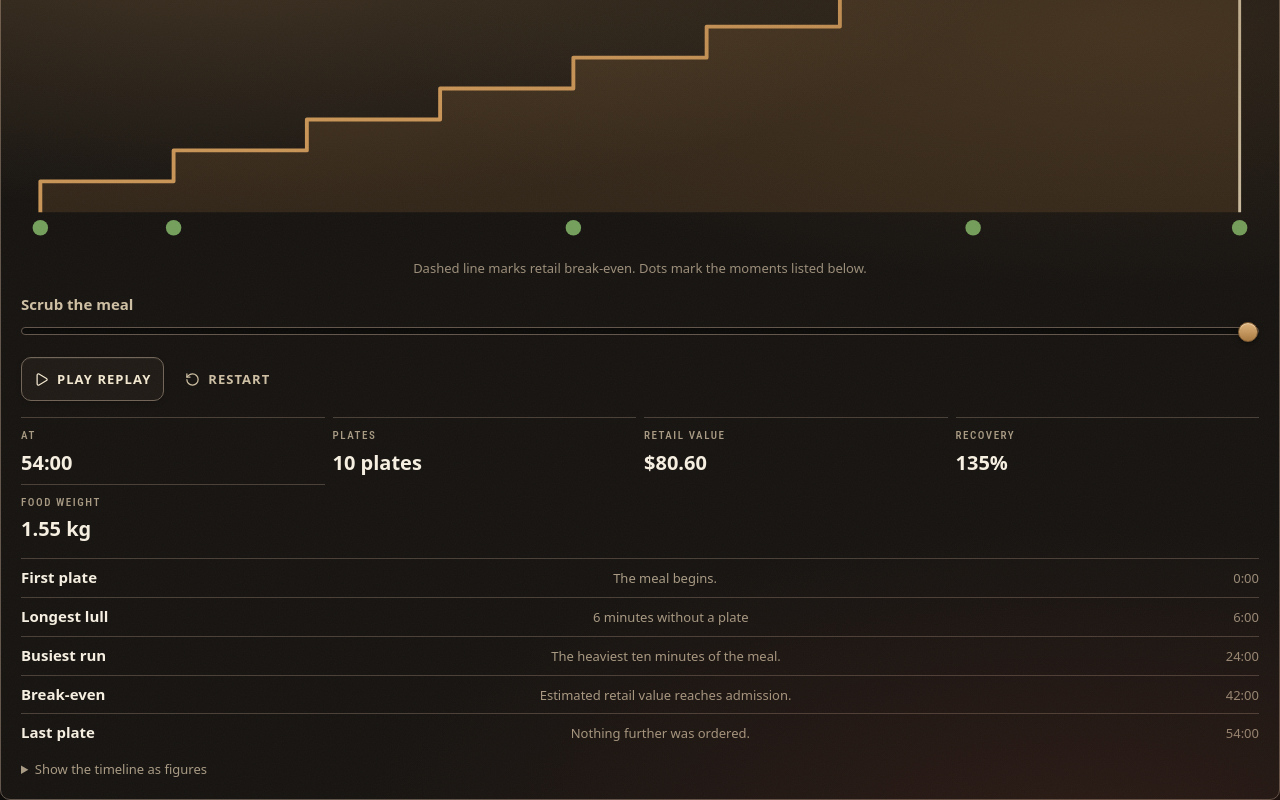
MealReplay › offers the same series as a table
This screenshot has width=1280, height=800.
(page scrolled)
Click the heading "Show the timeline as figures" at (121, 769), box [35,760,207,778]
(page scrolled)
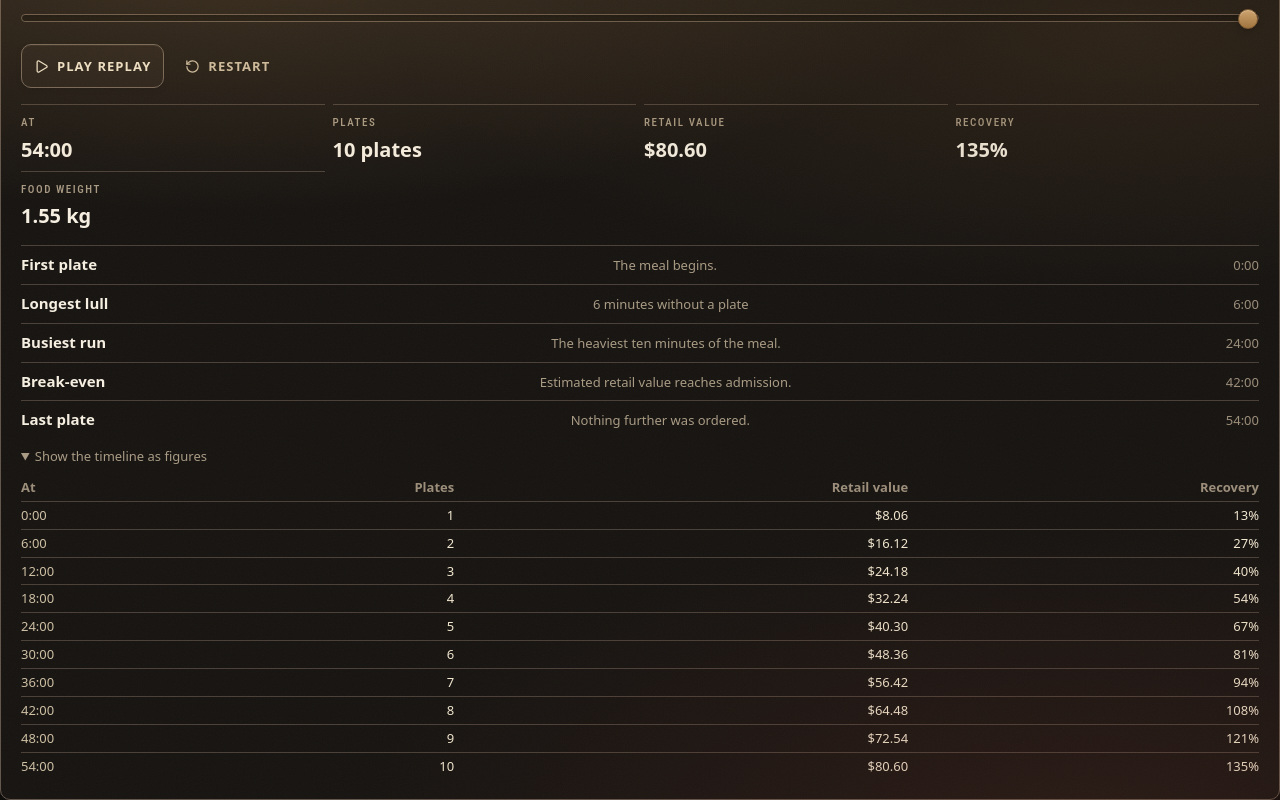
Check: the number of rows is 11
Check: the column heading "Recovery" is shown, box [908,474,1259,501]
